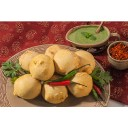bonda: (15, 74, 41, 100), (31, 54, 54, 80), (70, 73, 93, 97), (42, 82, 67, 103), (54, 50, 79, 71)
